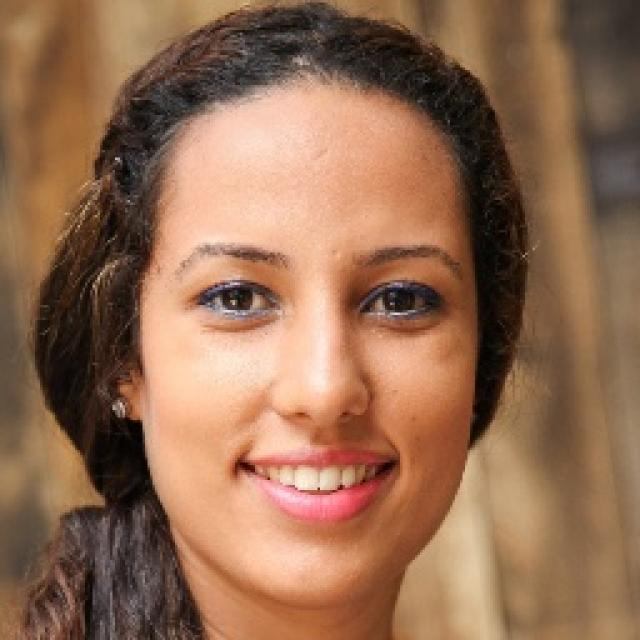earlobe: (108, 377, 142, 424)
eye: (191, 272, 283, 325), (363, 277, 446, 325)
nose: (276, 411, 368, 443)
wholeear: (86, 280, 142, 421)
